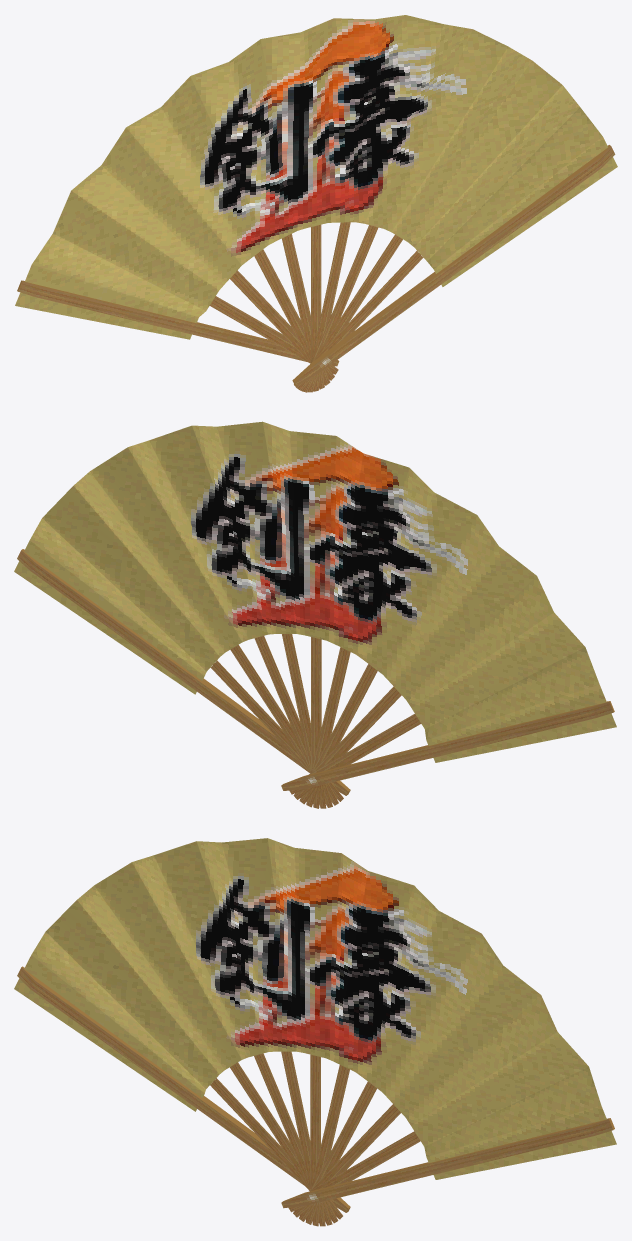
The model's file is ps2_save-icons_kengolegacyoftheblade.glb.
The picture shows the model from 3 angles, top to bottom: view 1: azimuth 30°, elevation 25°; view 2: azimuth 150°, elevation 25°; view 3: azimuth 330°, elevation 25°; orthographic projection. The views are drawn at different scales.
Parts seen in each view (by area): view 1: static.ico; view 2: static.ico; view 3: static.ico.
Part boxes in pixels (x1,y1,x2,y2): static.ico: (15,15,617,392); static.ico: (14,421,616,808); static.ico: (14,838,616,1226).
Size of the model in its own units: 4.79 by 2.81 by 0.2039.
Materials: 1 (1 with a texture image).
